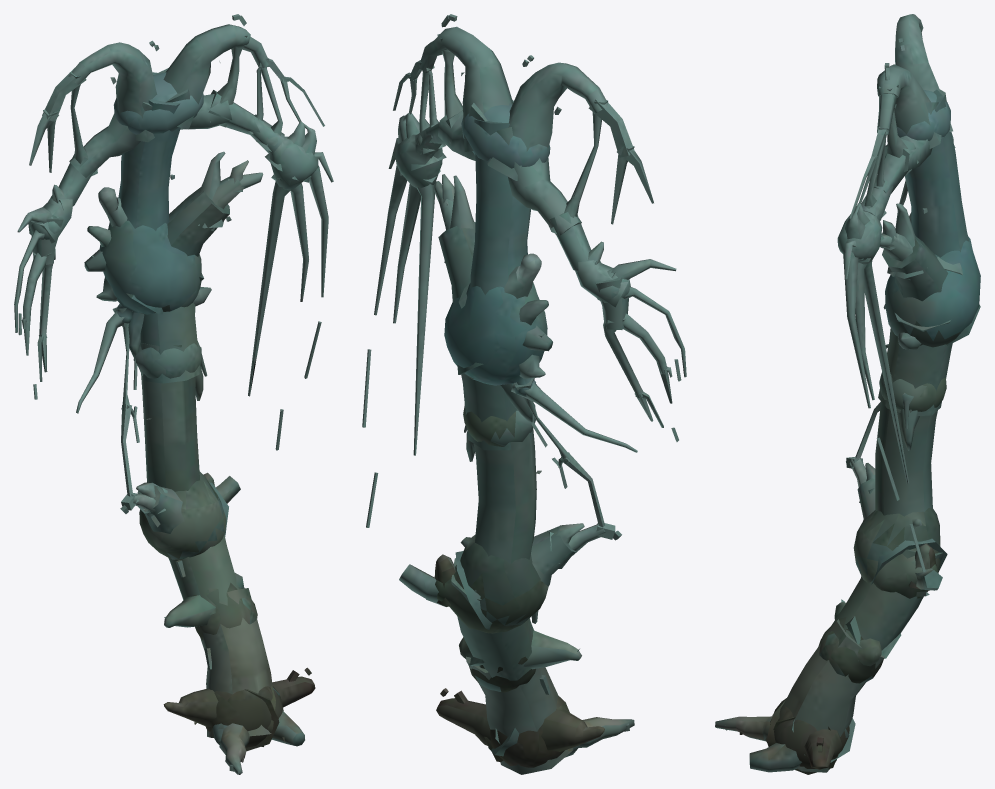
Rendered from stingfrond.glb.
The picture shows the model from 3 angles, left to right: view 1: azimuth 30°, elevation 25°; view 2: azimuth 150°, elevation 25°; view 3: azimuth 270°, elevation 25°; orthographic projection. The views are drawn at different scales.
Parts seen in each view (by area): view 1: body; view 2: body; view 3: body.
Boxes of the visible parts, <box> form: body: <box>14,14,333,774</box>; body: <box>362,14,686,774</box>; body: <box>715,14,980,774</box>.
Bounding box in the file's own units: 2.29 × 5.14 × 1.72.
1 material, 1 textured.
